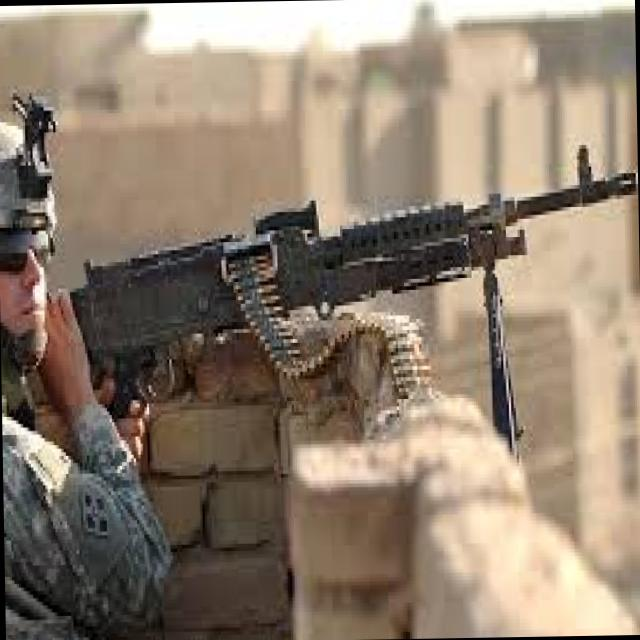Gun: (44, 135, 640, 429)
